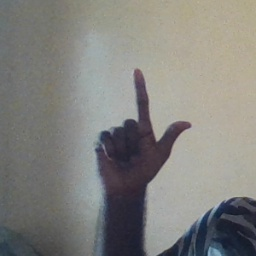L: (92, 68, 193, 189)
